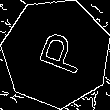P_W: (26, 27, 86, 79)
